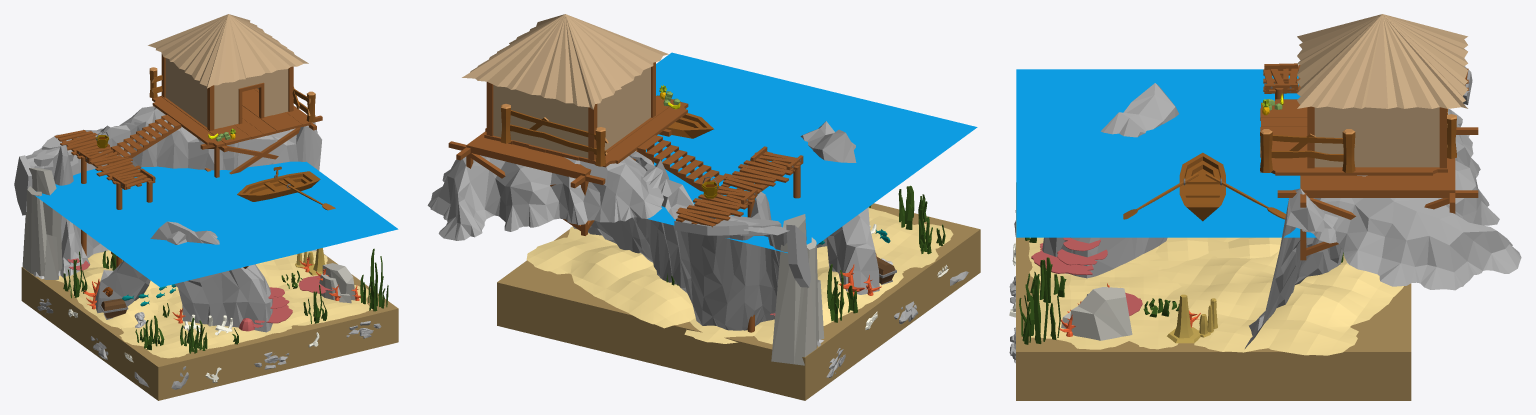
File: Ocean.fbx
3 views of the same model, side by side, from view 1: azimuth 30°, elevation 25°; view 2: azimuth 150°, elevation 25°; view 3: azimuth 270°, elevation 25° (orthographic). The views are drawn at different scales.
Parts seen in each view (by area): view 1: LowPolyWaterv2, Cube, Terrain_Rock_Cliff_Edging_Tall_01, Terrain_Rock_Archway_02, Building_Modular_Jetty_Walkway_Timber_Hut_Roof_01, Building_Modular_Jetty_Walkway_Timber_Hut_Base_01, Rock_Large_17, Building_Modular_Jetty_Walkway_Timber_Base_01, Terrain_Plane_Dirt_Uneven_01 (2), Terrain_Plane_Dirt_Uneven_01 (1), Terrain_Plane_Dirt_Uneven_01 (3), Prop_Row_Boat_01 (+12 smaller); view 2: LowPolyWaterv2, Cube, Terrain_Rock_Cliff_Edging_Tall_01, Terrain_Rock_Mound_01, Building_Modular_Jetty_Walkway_Timber_Hut_Roof_01, Terrain_Plane_Dirt_Uneven_01, Building_Modular_Jetty_Walkway_Timber_Hut_Base_01, Rock_Large_17, Terrain_Rock_Archway_02, Building_Modular_Jetty_Walkway_Timber_Platform_01, Terrain_Plane_Dirt_Uneven_01 (2), Terrain_Plane_Dirt_Uneven_01 (1) (+8 smaller); view 3: LowPolyWaterv2, Cube, Terrain_Plane_Dirt_Uneven_01, Terrain_Rock_Mound_01, Building_Modular_Jetty_Walkway_Timber_Hut_Roof_01, Building_Modular_Jetty_Walkway_Timber_Hut_Base_01, Terrain_Plane_Dirt_Uneven_01 (3), Building_Modular_Jetty_Walkway_Timber_Platform_01, Terrain_Rock_Archway_02, Terrain_Rock_Cliff_Edging_Tall_01, Building_Modular_Jetty_Walkway_Timber_Base_01, Prop_Row_Boat_01 (+9 smaller).
Boxes of the visible parts, left/top/right/bottom form: LowPolyWaterv2: left=35, top=161, right=398, bottom=287; Cube: left=21, top=254, right=398, bottom=400; Terrain_Rock_Cliff_Edging_Tall_01: left=25, top=121, right=321, bottom=279; Terrain_Rock_Archway_02: left=95, top=221, right=272, bottom=332; Building_Modular_Jetty_Walkway_Timber_Hut_Roof_01: left=148, top=14, right=308, bottom=88; Building_Modular_Jetty_Walkway_Timber_Hut_Base_01: left=161, top=53, right=293, bottom=130; Rock_Large_17: left=22, top=168, right=62, bottom=279; Building_Modular_Jetty_Walkway_Timber_Base_01: left=152, top=88, right=311, bottom=147; Terrain_Plane_Dirt_Uneven_01 (2): left=119, top=302, right=271, bottom=358; Terrain_Plane_Dirt_Uneven_01 (1): left=56, top=250, right=182, bottom=328; Terrain_Plane_Dirt_Uneven_01 (3): left=267, top=275, right=372, bottom=333; Prop_Row_Boat_01: left=237, top=166, right=335, bottom=210; LowPolyWaterv2: left=646, top=52, right=977, bottom=253; Cube: left=497, top=203, right=980, bottom=400; Terrain_Rock_Cliff_Edging_Tall_01: left=572, top=151, right=823, bottom=346; Terrain_Rock_Mound_01: left=427, top=155, right=663, bottom=240; Building_Modular_Jetty_Walkway_Timber_Hut_Roof_01: left=462, top=14, right=668, bottom=109; Terrain_Plane_Dirt_Uneven_01: left=526, top=226, right=695, bottom=328; Building_Modular_Jetty_Walkway_Timber_Hut_Base_01: left=486, top=62, right=655, bottom=160; Rock_Large_17: left=771, top=214, right=824, bottom=365; Terrain_Rock_Archway_02: left=800, top=121, right=879, bottom=294; Building_Modular_Jetty_Walkway_Timber_Platform_01: left=448, top=129, right=671, bottom=235; Terrain_Plane_Dirt_Uneven_01 (2): left=817, top=208, right=953, bottom=270; Terrain_Plane_Dirt_Uneven_01 (1): left=684, top=252, right=904, bottom=344; LowPolyWaterv2: left=1016, top=69, right=1315, bottom=237; Cube: left=1016, top=182, right=1411, bottom=400; Terrain_Plane_Dirt_Uneven_01: left=1157, top=237, right=1403, bottom=355; Terrain_Rock_Mound_01: left=1302, top=109, right=1521, bottom=290; Building_Modular_Jetty_Walkway_Timber_Hut_Roof_01: left=1297, top=14, right=1467, bottom=108; Building_Modular_Jetty_Walkway_Timber_Hut_Base_01: left=1307, top=106, right=1446, bottom=168; Terrain_Plane_Dirt_Uneven_01 (3): left=1028, top=262, right=1181, bottom=349; Building_Modular_Jetty_Walkway_Timber_Platform_01: left=1277, top=127, right=1478, bottom=260; Terrain_Rock_Archway_02: left=1042, top=83, right=1178, bottom=278; Terrain_Rock_Cliff_Edging_Tall_01: left=1245, top=91, right=1469, bottom=348; Building_Modular_Jetty_Walkway_Timber_Base_01: left=1260, top=99, right=1447, bottom=175; Prop_Row_Boat_01: left=1123, top=152, right=1285, bottom=221.
Bounding box in the file's own units: 12.89 × 10.4 × 13.55.
